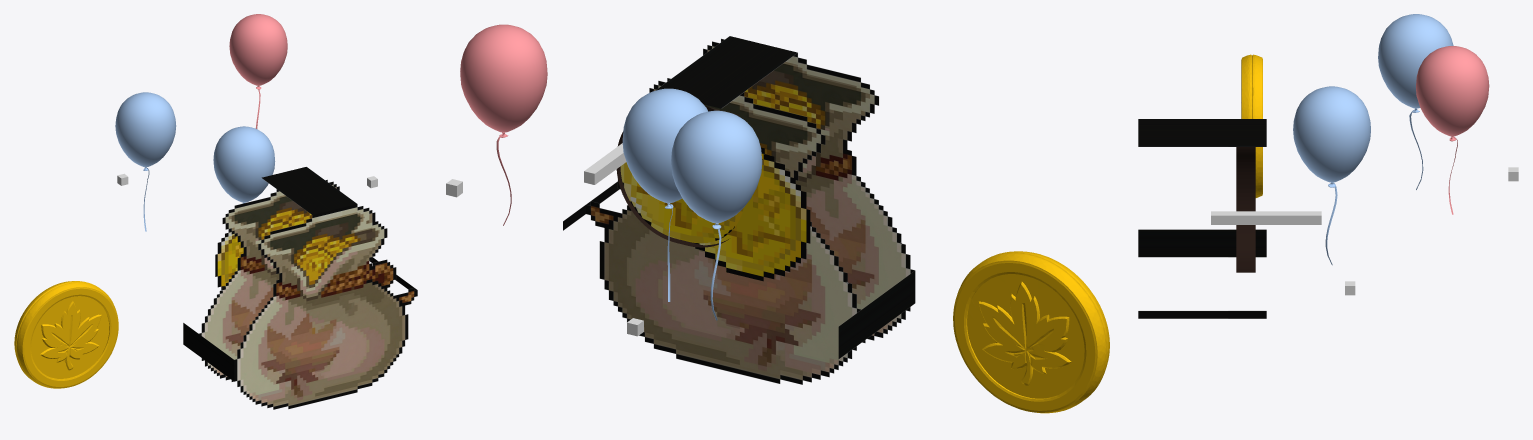
3 views of the same model, side by side, from view 1: azimuth 30°, elevation 25°; view 2: azimuth 150°, elevation 25°; view 3: azimuth 270°, elevation 25° (orthographic). The views are drawn at different scales.
Visible parts, largest first — view 1: 楓幣袋-1, tripo_node_dec69939-cfb1-4526-9843-16c12bb7218f, BALLOON.002, BALLOON, BALLOON.003, 楓幣.002; view 2: 楓幣袋-1, tripo_node_dec69939-cfb1-4526-9843-16c12bb7218f, BALLOON.002, 楓幣.002, BALLOON.003, BALLOON, 楓幣, Cube; view 3: 楓幣袋-1, BALLOON, BALLOON.003, BALLOON.002, 楓幣, tripo_node_dec69939-cfb1-4526-9843-16c12bb7218f, Cube.
Part boxes in pixels (box(x1,y1,x2,y2)): 楓幣袋-1: box(183, 166, 417, 409); tripo_node_dec69939-cfb1-4526-9843-16c12bb7218f: box(14, 281, 118, 388); BALLOON.002: box(115, 92, 176, 231); BALLOON: box(213, 126, 275, 203); BALLOON.003: box(229, 14, 287, 128); 楓幣.002: box(215, 231, 243, 289); 楓幣袋-1: box(563, 36, 915, 384); tripo_node_dec69939-cfb1-4526-9843-16c12bb7218f: box(953, 251, 1109, 413); BALLOON.002: box(671, 110, 762, 320); 楓幣.002: box(686, 147, 810, 281); BALLOON.003: box(460, 24, 547, 225); BALLOON: box(622, 88, 708, 301); 楓幣: box(616, 106, 743, 247); Cube: box(584, 143, 626, 184); 楓幣袋-1: box(1138, 119, 1266, 318); BALLOON: box(1293, 86, 1370, 265); BALLOON.003: box(1416, 46, 1489, 214); BALLOON.002: box(1378, 14, 1453, 189); 楓幣: box(1236, 147, 1255, 272); tripo_node_dec69939-cfb1-4526-9843-16c12bb7218f: box(1241, 54, 1262, 197); Cube: box(1211, 211, 1321, 224).
Size of what is drawn, in the model's own units: 6.52 by 4.4 by 4.27.
7 materials, 2 textured.
